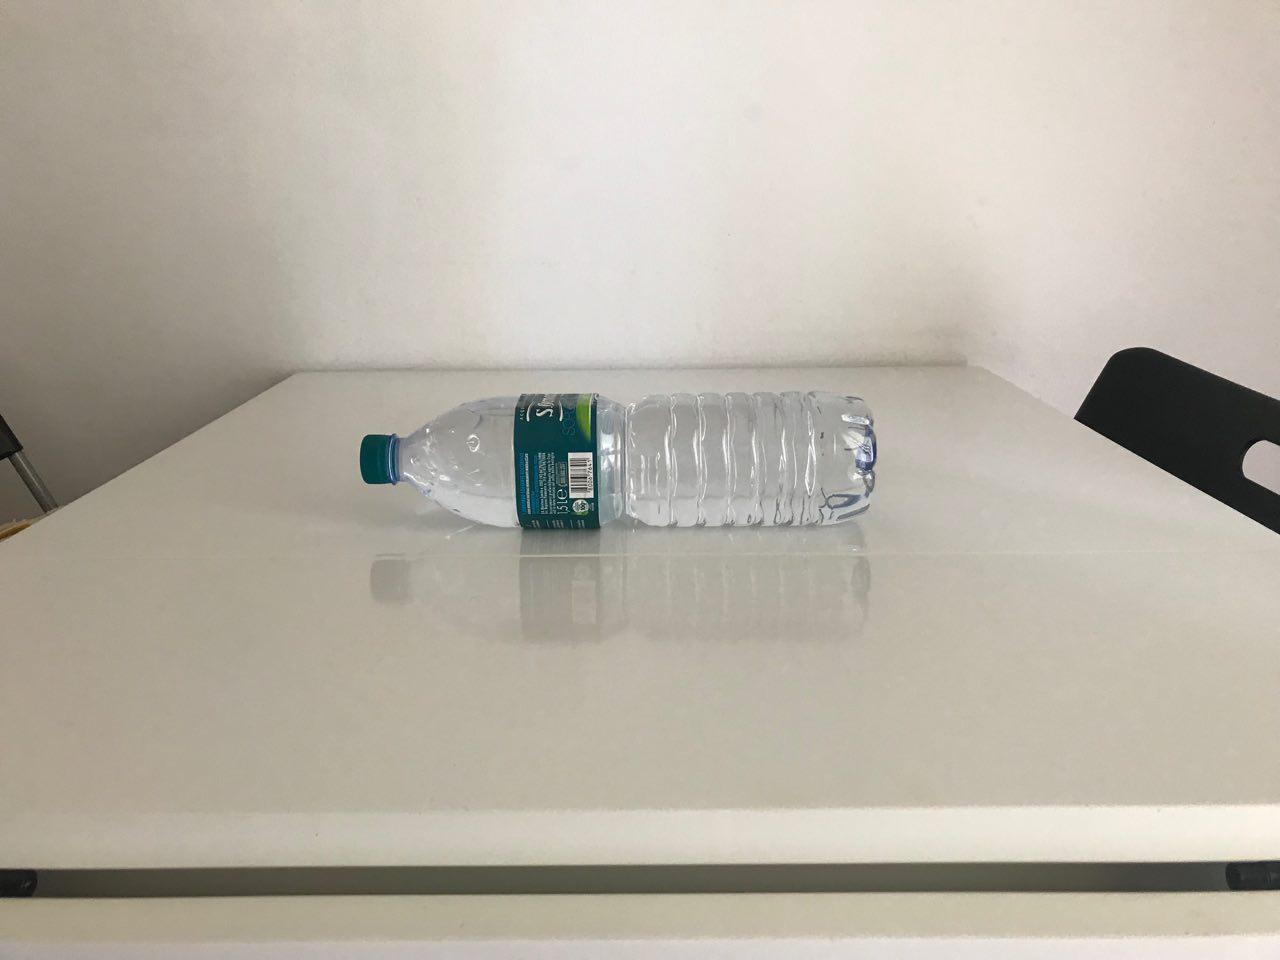san_bernardo: (358, 389, 878, 532)
